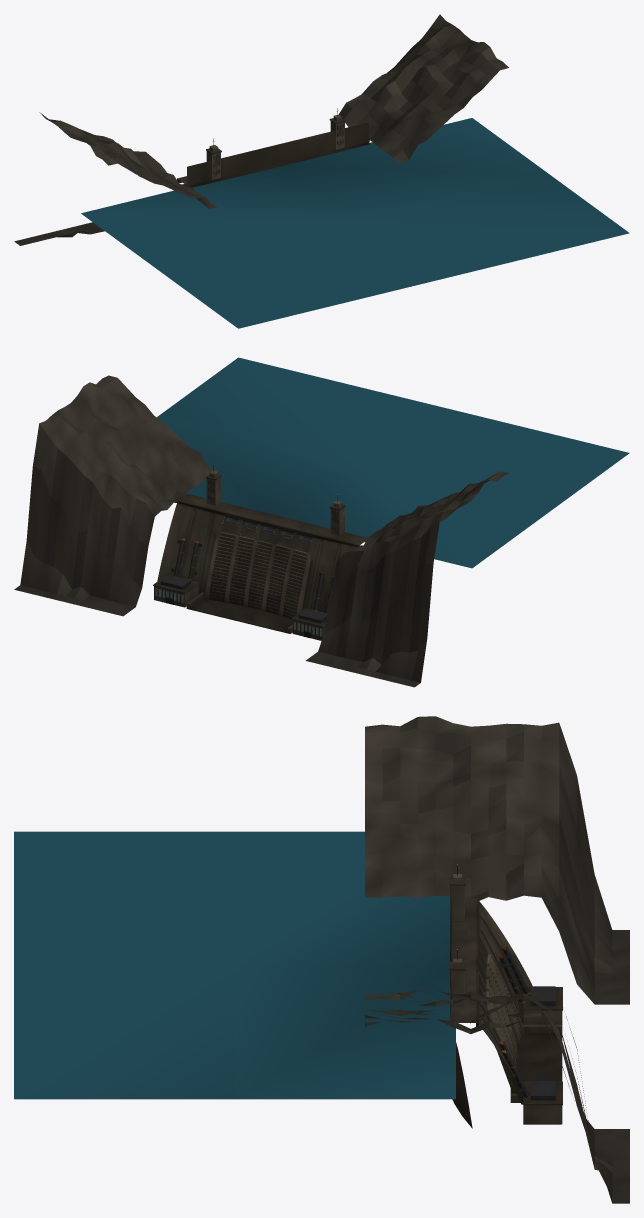
The model's file is dam_wall_backdrop.glb.
The picture shows the model from 3 angles, top to bottom: view 1: azimuth 30°, elevation 25°; view 2: azimuth 150°, elevation 25°; view 3: azimuth 270°, elevation 25°; orthographic projection. The views are drawn at different scales.
Visible parts, largest first — view 1: water_dark, rock_grey, concrete_dark, concrete; view 2: water_dark, rock_grey, concrete, concrete_dark, metal_dark; view 3: water_dark, rock_grey, concrete, concrete_dark, metal_dark.
Part boxes in pixels (box(x1,y1,x2,y2)): water_dark: box(81, 118, 629, 328); rock_grey: box(14, 14, 508, 245); concrete_dark: box(177, 118, 369, 187); concrete: box(178, 114, 344, 183); water_dark: box(157, 357, 629, 568); rock_grey: box(14, 375, 508, 687); concrete: box(154, 470, 355, 640); concrete_dark: box(153, 474, 367, 640); metal_dark: box(160, 465, 338, 638); water_dark: box(14, 831, 455, 1099); rock_grey: box(365, 716, 629, 1203); concrete: box(450, 874, 562, 1124); concrete_dark: box(449, 877, 562, 1128); metal_dark: box(457, 865, 555, 1100).
Size of what is drawn, in the model's own units: 440 by 161 by 418.
